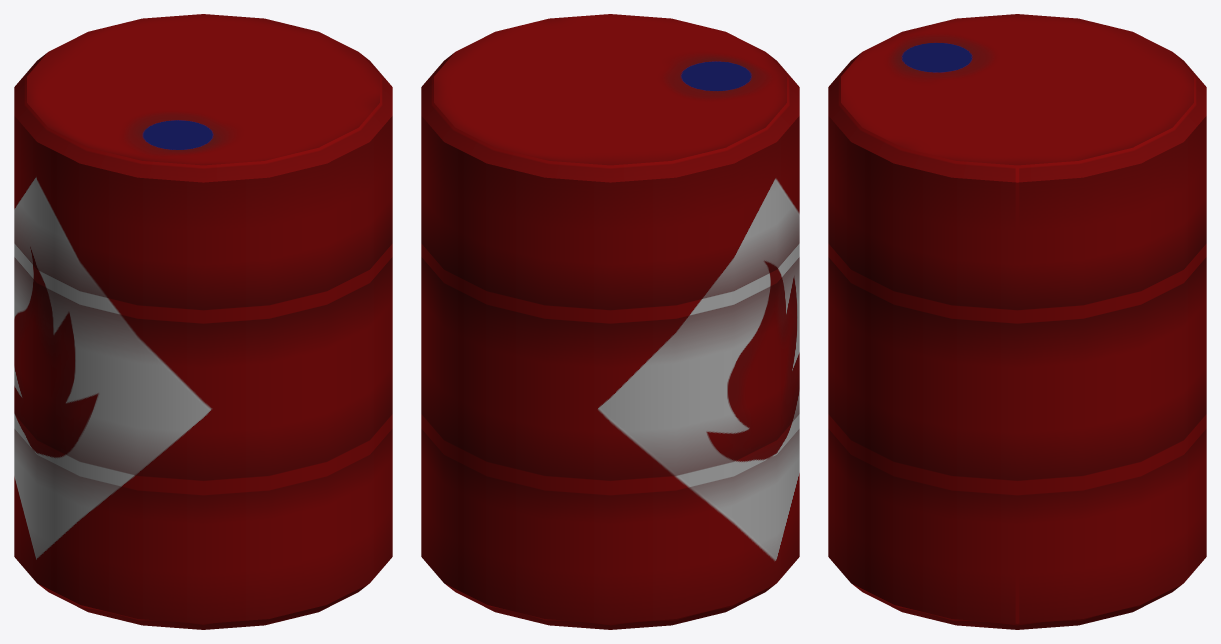
Rendered from BarrilToxico.fbx.
3 views of the same model, side by side, from view 1: azimuth 30°, elevation 25°; view 2: azimuth 150°, elevation 25°; view 3: azimuth 270°, elevation 25° (orthographic).
Parts seen in each view (by area): view 1: Cylinder001; view 2: Cylinder001; view 3: Cylinder001.
Part boxes in pixels (left/top/right/bottom): Cylinder001: left=14, top=14, right=392, bottom=629; Cylinder001: left=421, top=14, right=799, bottom=629; Cylinder001: left=828, top=14, right=1206, bottom=629.
Size of the model in its own units: 30 by 40 by 29.54.
